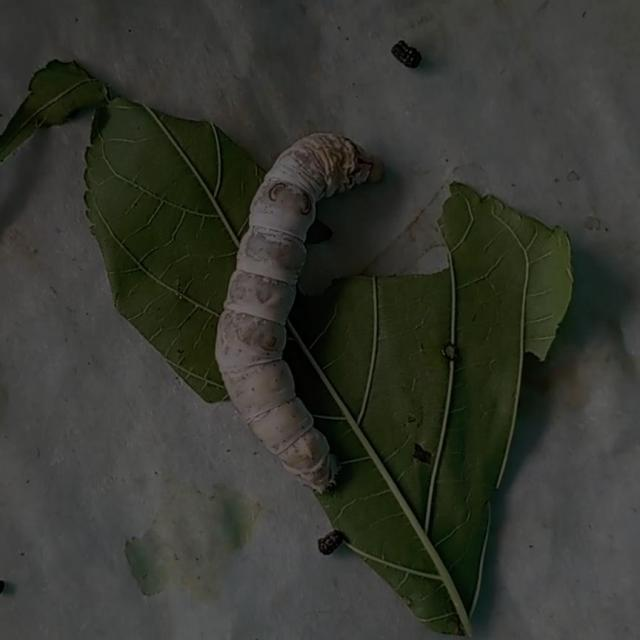Grasserie: (205, 116, 385, 503)
